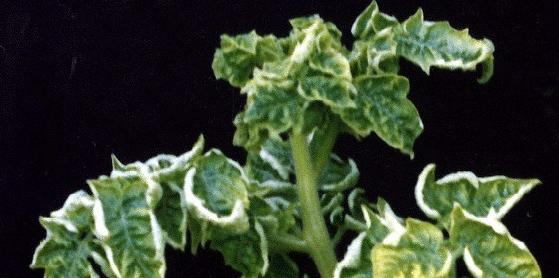Tomato leaf yellow virus: (408, 154, 541, 230), (363, 19, 495, 91), (91, 166, 171, 278), (350, 64, 430, 162), (182, 142, 254, 247), (443, 206, 543, 278), (356, 217, 454, 278), (26, 206, 105, 278)
